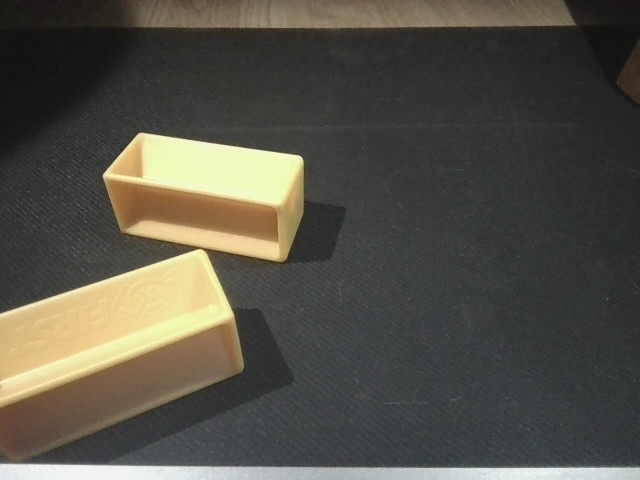YellowSample: (1, 247, 246, 463), (100, 129, 310, 264)
